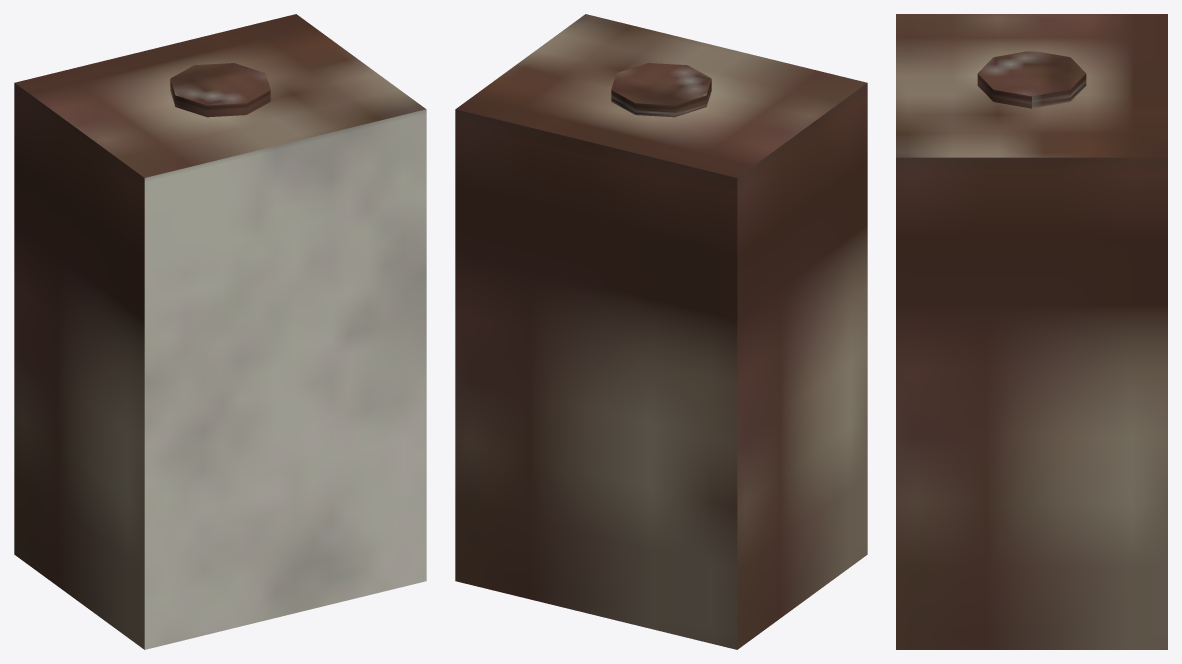
The model's file is can_bin.fbx.
3 renders of one model, left to right at view 1: azimuth 30°, elevation 25°; view 2: azimuth 150°, elevation 25°; view 3: azimuth 270°, elevation 25°, orthographic. The views are drawn at different scales.
Parts seen in each view (by area): view 1: can_bin; view 2: can_bin; view 3: can_bin.
Boxes of the visible parts, x1=… form: can_bin: x1=14, y1=14, x2=426, y2=649; can_bin: x1=455, y1=14, x2=867, y2=649; can_bin: x1=896, y1=14, x2=1167, y2=649.
Size of the model in its own units: 0.5 by 0.82 by 0.4.
